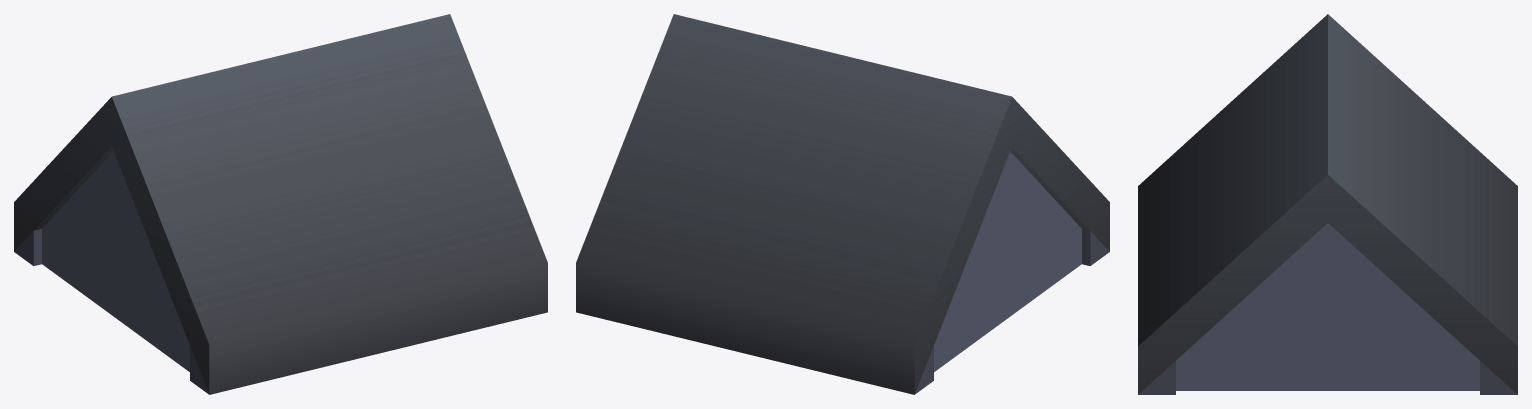
Rendered from roof-high-gable-top.glb.
3 views of the same model, side by side, from view 1: azimuth 30°, elevation 25°; view 2: azimuth 150°, elevation 25°; view 3: azimuth 270°, elevation 25° (orthographic). The views are drawn at different scales.
Parts seen in each view (by area): view 1: roof-high-gable-top; view 2: roof-high-gable-top; view 3: roof-high-gable-top.
Boxes of the visible parts, box(x1,y1,x2,y2) form: roof-high-gable-top: box(14, 14, 547, 394); roof-high-gable-top: box(576, 14, 1109, 394); roof-high-gable-top: box(1138, 14, 1517, 394).
Size of the model in its own units: 1 by 0.6407 by 1.
1 material, 1 textured.
